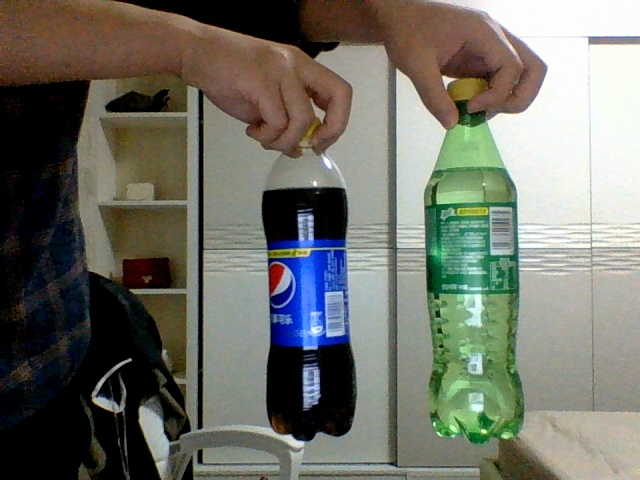Cola: (260, 116, 358, 441)
Sprite: (421, 76, 525, 441)
